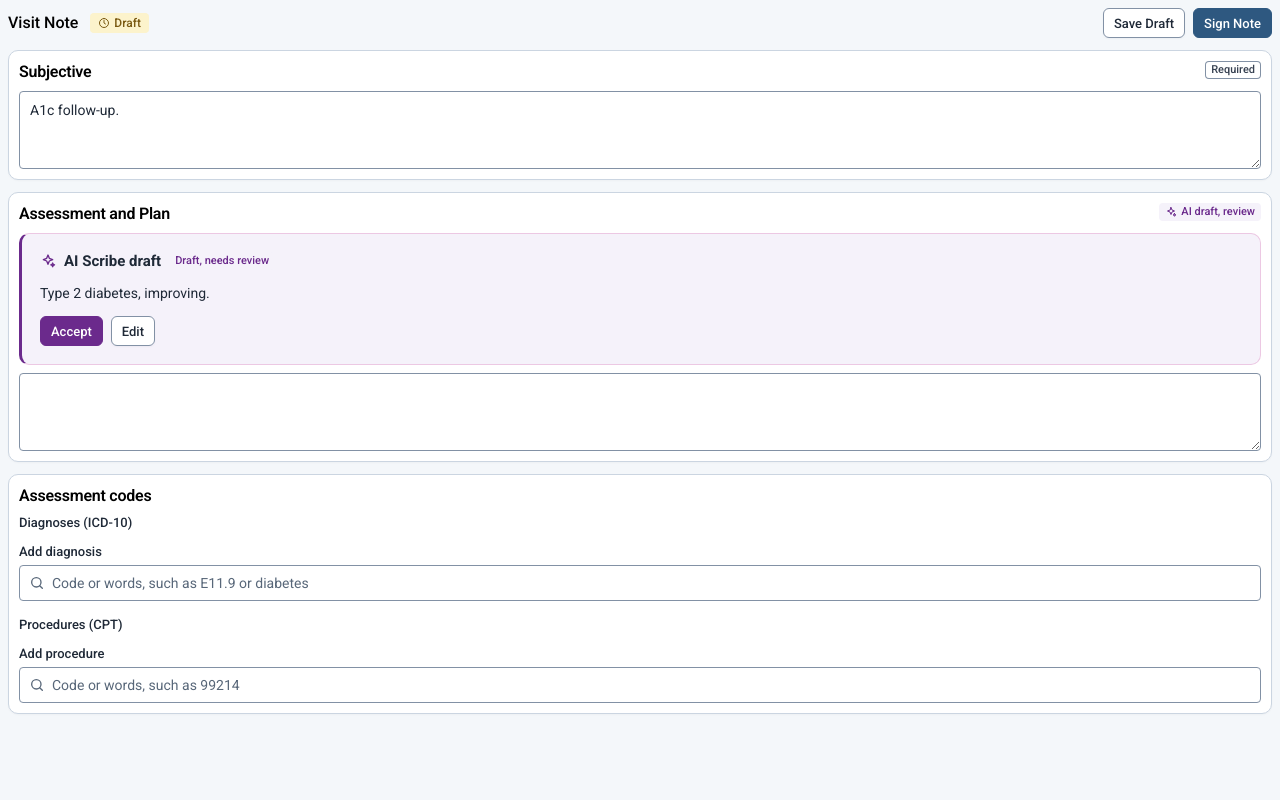
Test: VisitNoteEditor › accepts an AI draft into the section and reports the change
This screenshot has width=1280, height=800.
expect the text box named "Assessment and Plan" is empty: met, box [19,373,1261,451]
Click the button "Accept": (71, 331) [40,316,103,346]
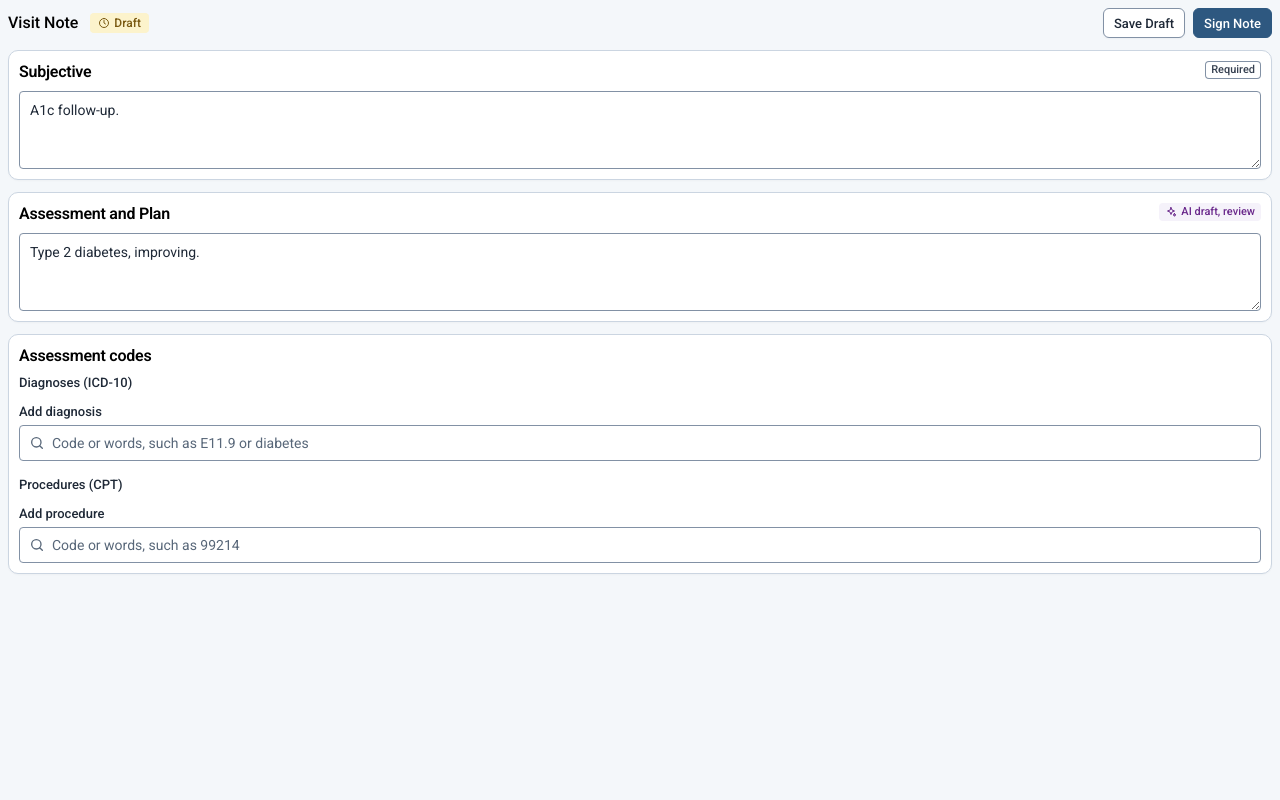
expect the text box named "Assessment and Plan" holds "Type 2 diabetes, improving.": met, box [19,233,1261,311]
expect the button "Accept" is gone: met
